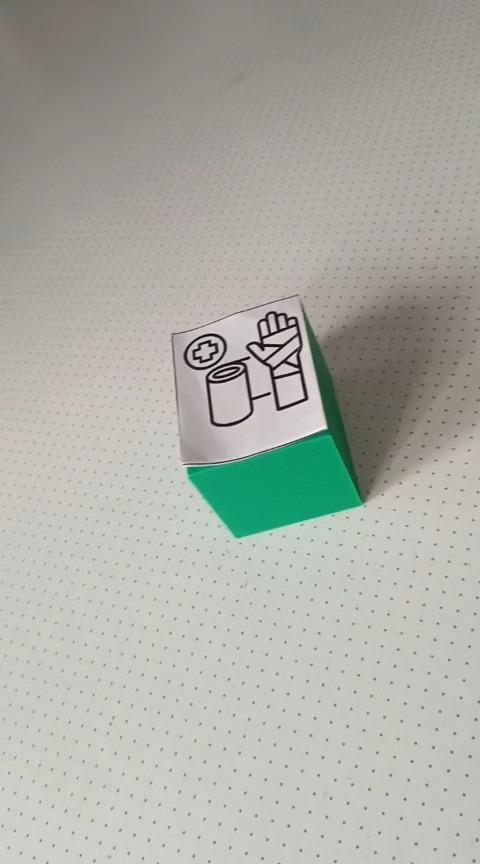Bandages: (169, 293, 364, 538)
